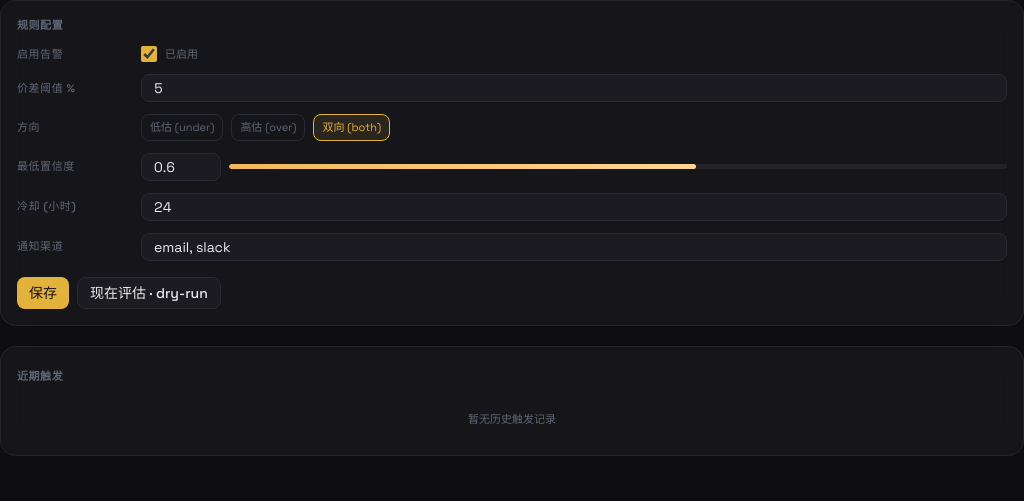
Test case: MispricingAlertPanel › shows save-error when saveMispricingRule rejects
The width and height of the screenshot is (1024, 501).
Click the button with test id "save-rule-btn" at {"x": 43, "y": 292}, box left=17, top=276, right=69, bottom=308
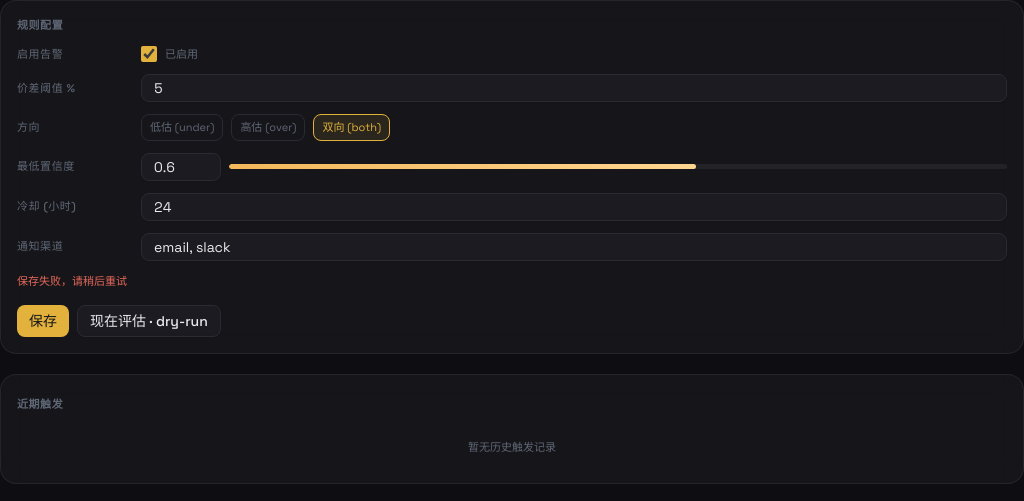
Check: the text "保存失败，请稍后重试" is shown, box left=17, top=274, right=127, bottom=288
